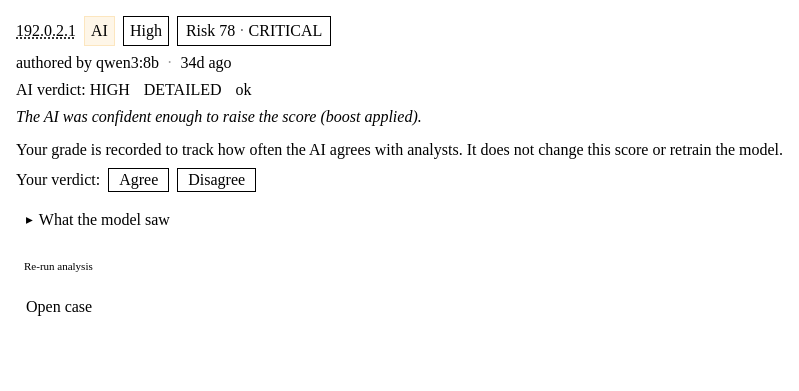
Scenario: VerdictCard — MK-11 Re-run analysis control › EARS-MK11-17: clicking Re-run mounts the ticker (stage-ticker appears)
The width and height of the screenshot is (799, 391).
Click the button with test id "verdict-card-rerun-btn" at (58, 266), box [16, 257, 101, 275]
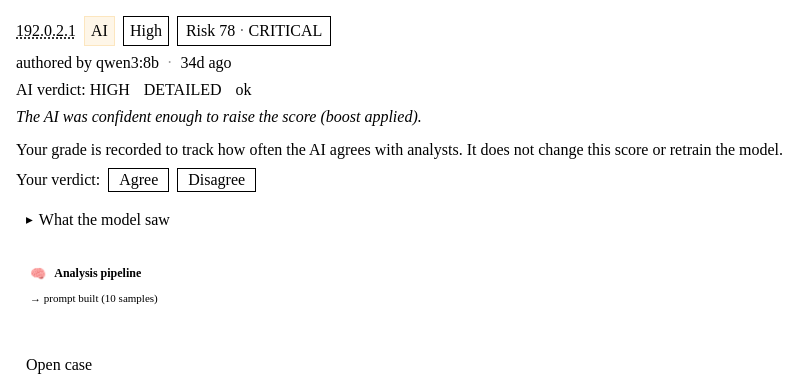
Check: the element with test id "stage-ticker" is shown, box [30, 266, 196, 304]
